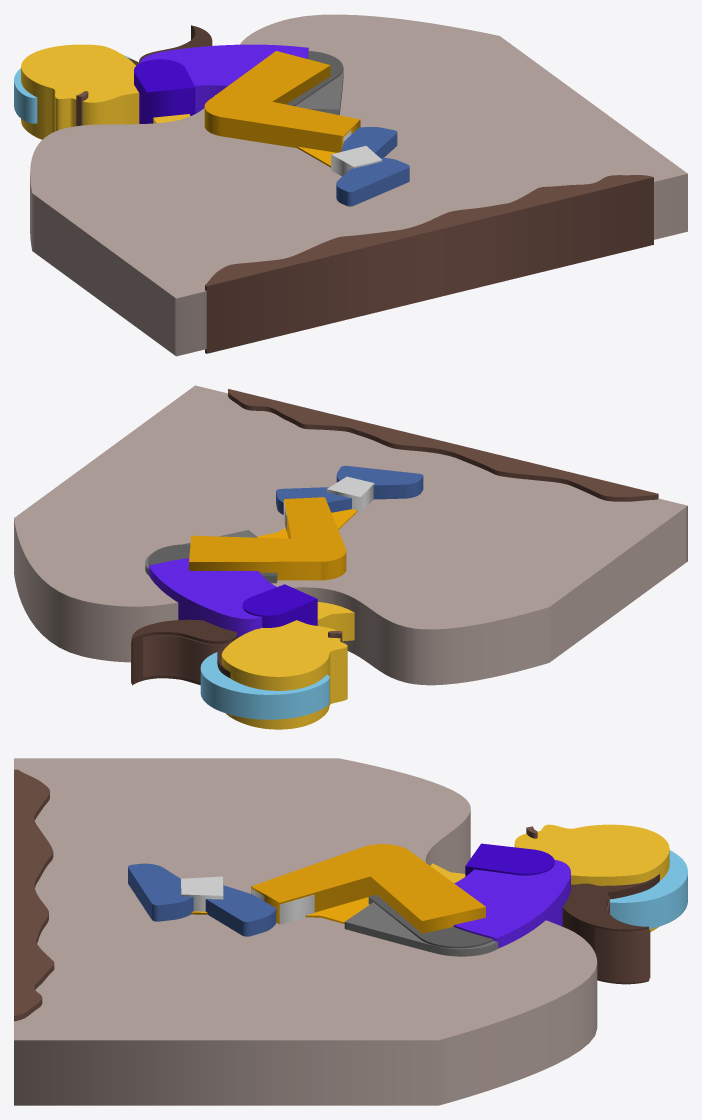
Rendered from emoji_u1f6b5_200d_2640.glb.
3 renders of one model, top to bottom at view 1: azimuth 30°, elevation 25°; view 2: azimuth 150°, elevation 25°; view 3: azimuth 270°, elevation 25°, orthographic. The views are drawn at different scales.
Parts seen in each view (by area): view 1: emoji_u1f6b5_200d_2640; view 2: emoji_u1f6b5_200d_2640; view 3: emoji_u1f6b5_200d_2640.
Boxes of the visible parts, bbox=[...] form: emoji_u1f6b5_200d_2640: bbox=[14, 14, 687, 356]; emoji_u1f6b5_200d_2640: bbox=[14, 385, 687, 729]; emoji_u1f6b5_200d_2640: bbox=[14, 758, 687, 1105].
Bounding box in the file's own units: 0.0333 × 0.006 × 0.0336.
